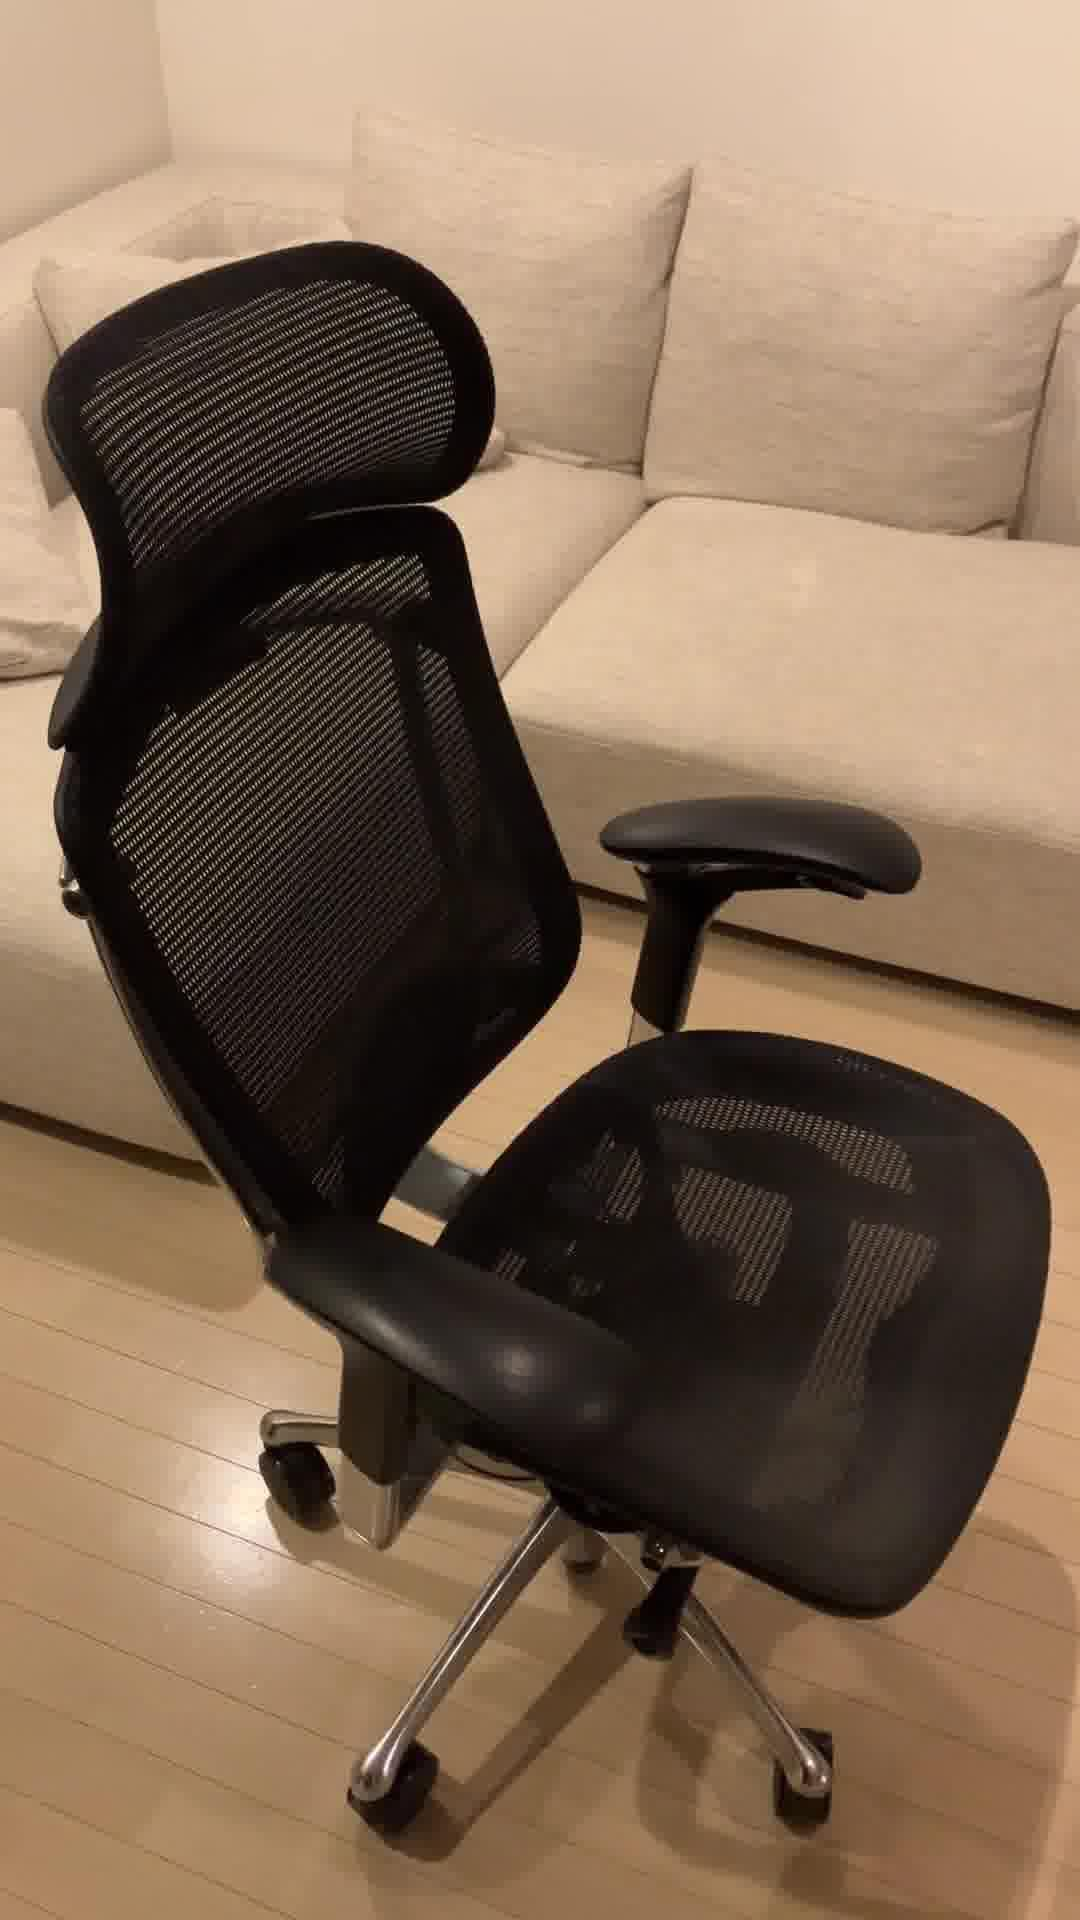okamura-contessa: (34, 232, 1055, 1857)
